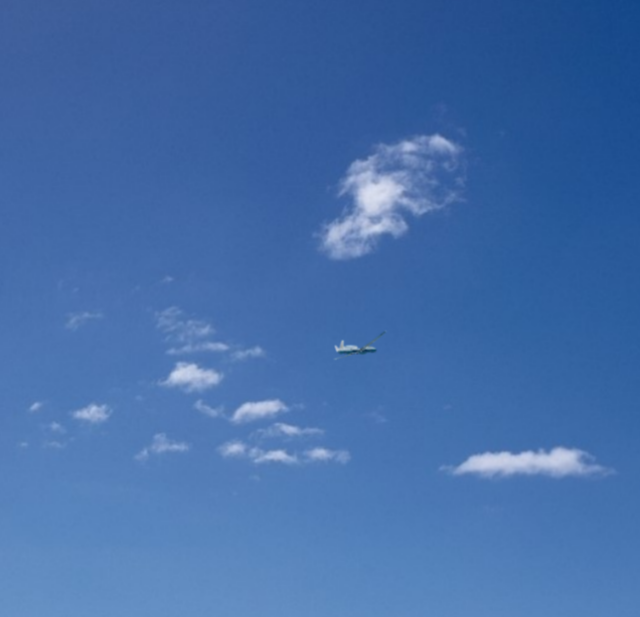military drone: (332, 329, 386, 361)
